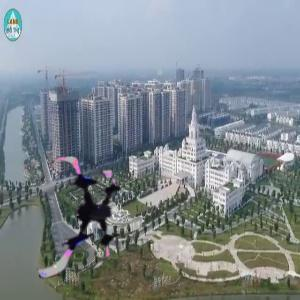drone: (21, 151, 145, 275)
